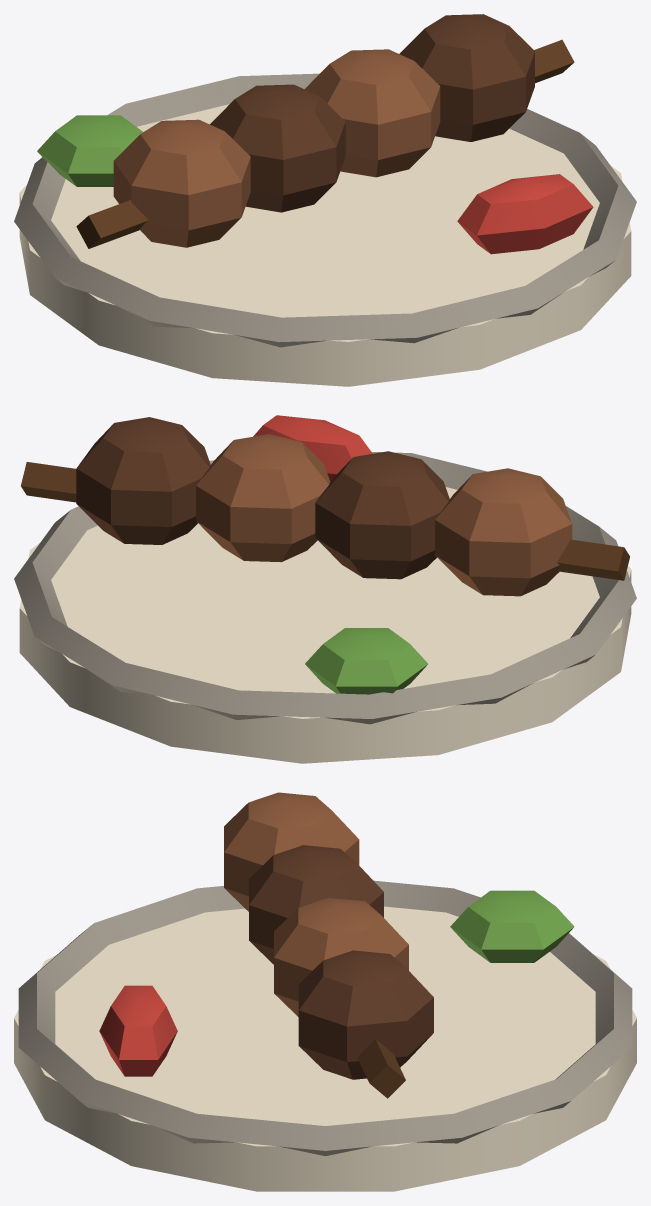
File: PR_Drink_KozEt.fbx
3 views of the same model, one above another, from view 1: azimuth 30°, elevation 25°; view 2: azimuth 150°, elevation 25°; view 3: azimuth 270°, elevation 25° (orthographic).
Parts seen in each view (by area): view 1: PR_Drink_KozEt; view 2: PR_Drink_KozEt; view 3: PR_Drink_KozEt.
Boxes of the visible parts, x1=… form: PR_Drink_KozEt: x1=14, y1=14, x2=636, y2=386; PR_Drink_KozEt: x1=14, y1=415, x2=636, y2=763; PR_Drink_KozEt: x1=14, y1=792, x2=636, y2=1191.
Size of the model in its own units: 0.2024 by 0.0654 by 0.2.
